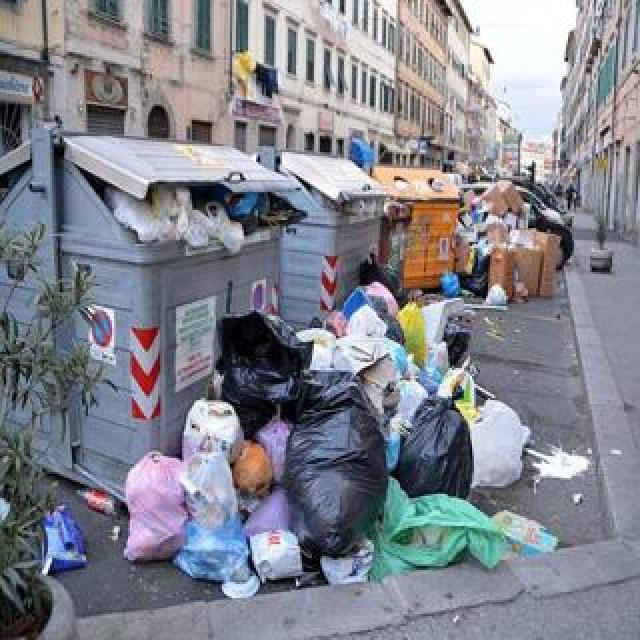high trash: (125, 184, 556, 598)
less trash: (42, 505, 86, 574)
